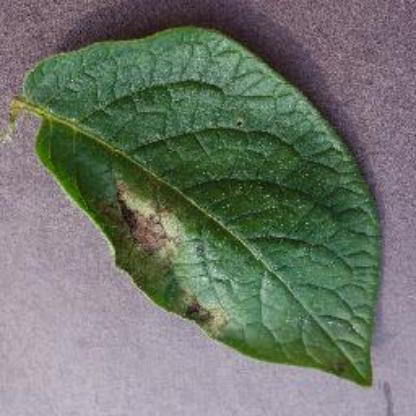Late-Blight: (3, 13, 395, 408)
